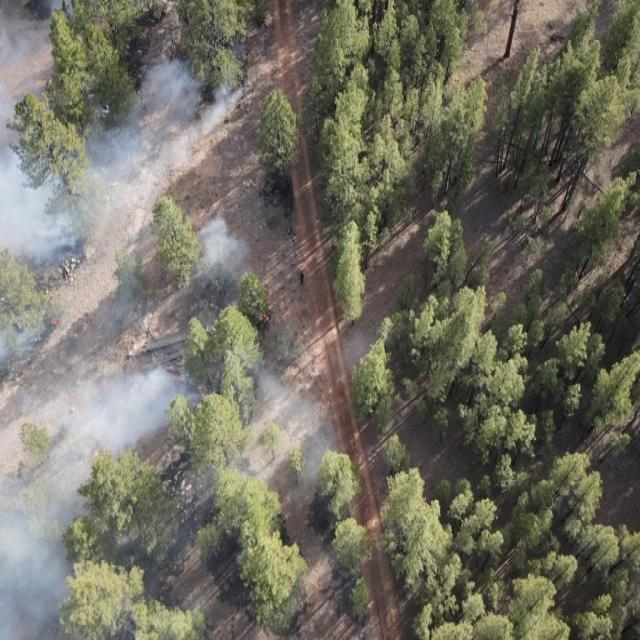fire: (46, 310, 64, 332), (259, 306, 273, 330), (124, 16, 136, 29), (170, 49, 180, 63)
smoke: (0, 346, 352, 640), (0, 58, 244, 283), (182, 210, 264, 296), (0, 0, 74, 58)
